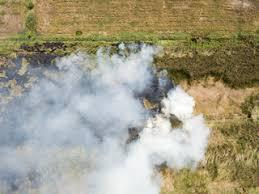smoke: (5, 38, 205, 193)
